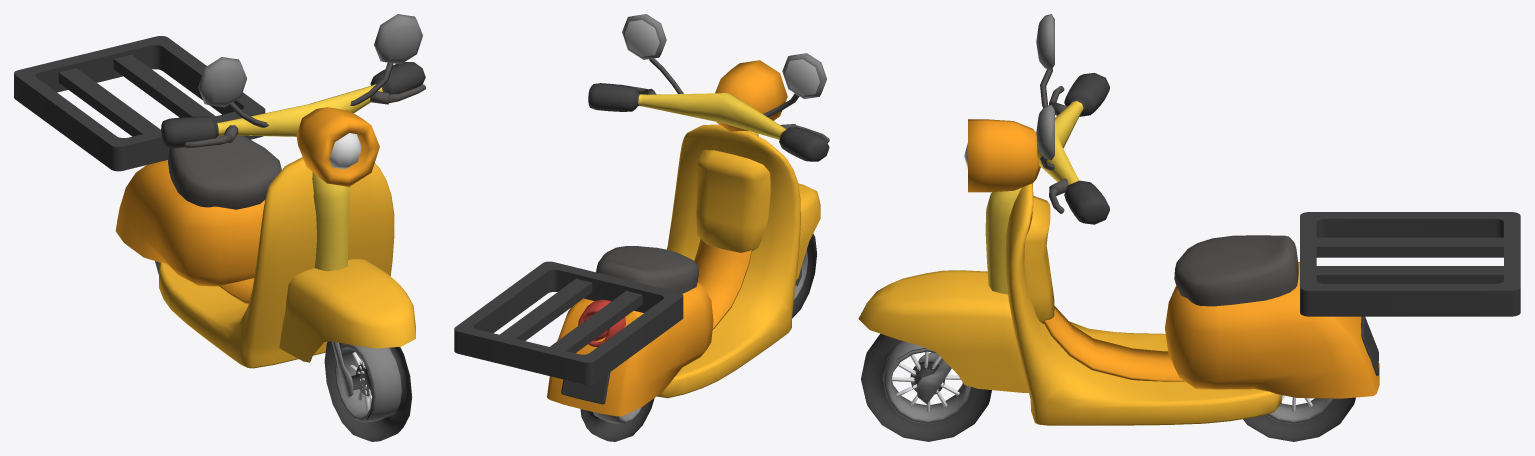
The model's file is bike with stand.fbx.
The picture shows the model from 3 angles, left to right: view 1: azimuth 30°, elevation 25°; view 2: azimuth 150°, elevation 25°; view 3: azimuth 270°, elevation 25°; orthographic projection. The views are drawn at different scales.
Parts seen in each view (by area): view 1: scooty, stand; view 2: scooty, stand; view 3: scooty, stand.
Part boxes in pixels (<box>): scooty: <box>115,14,425,441</box>; stand: <box>14,36,265,171</box>; scooty: <box>547,14,829,441</box>; stand: <box>454,261,683,384</box>; scooty: <box>858,14,1379,441</box>; stand: <box>1300,212,1520,316</box>.
Bounding box in the file's own units: 3.26 × 4.3 × 6.83.
